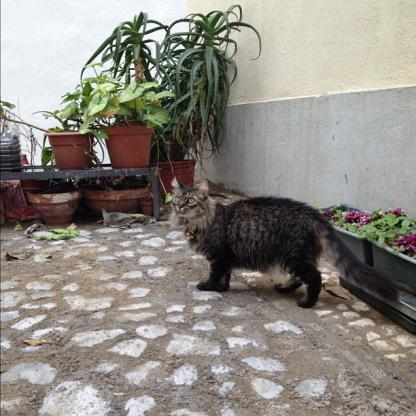Target: (170, 174, 404, 312)
